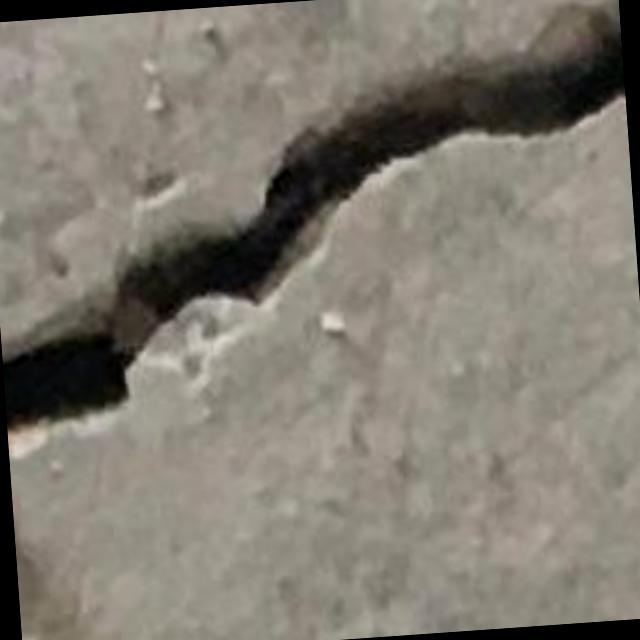crack: (2, 1, 625, 439)
